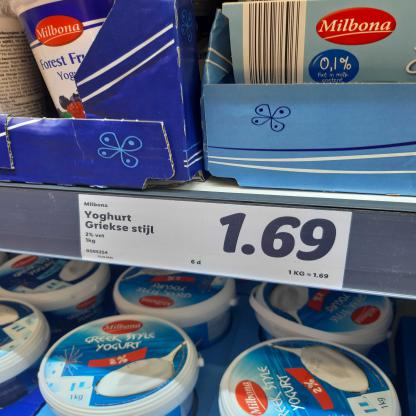prtg: (79, 195, 353, 291)
